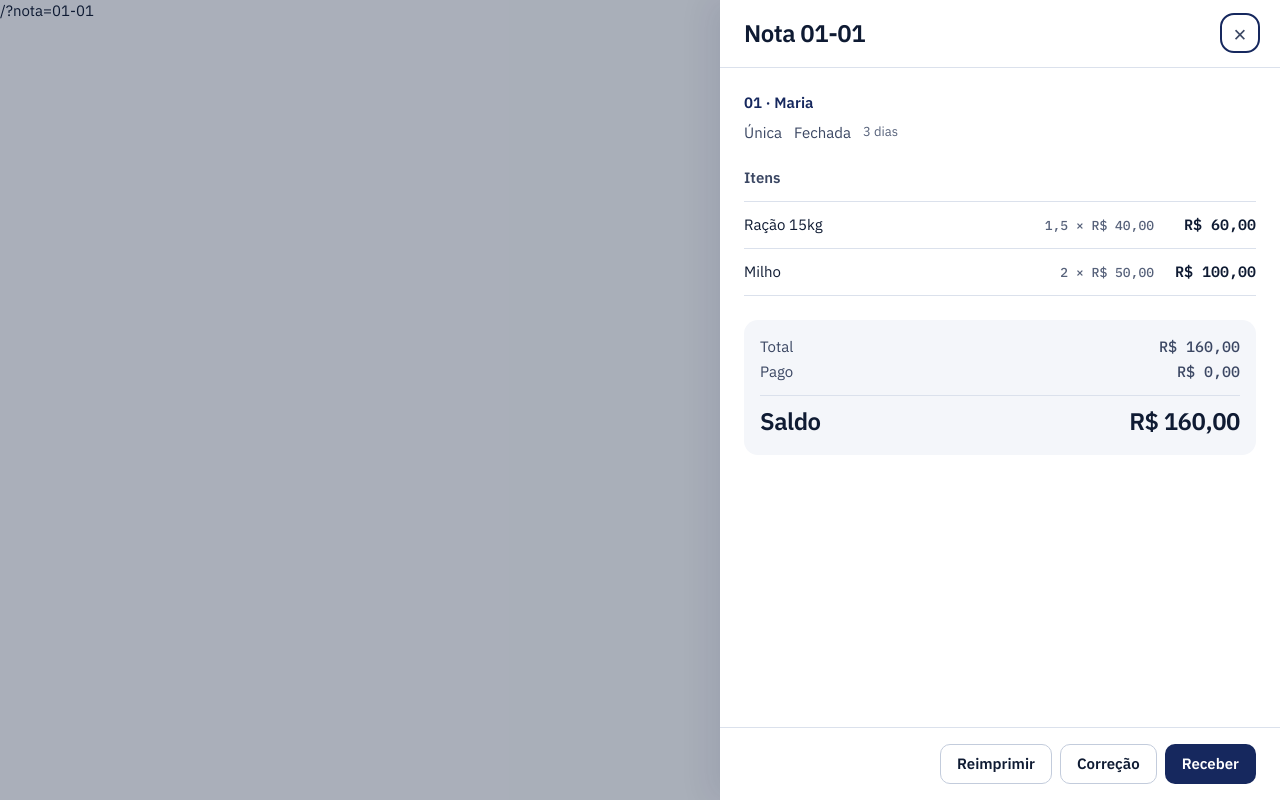
Test: Receber › 409 recarrega a nota e fecha o formulário com o aviso na gaveta
The width and height of the screenshot is (1280, 800).
Click the button "Receber" at (1210, 764), box [1165,744,1256,784]
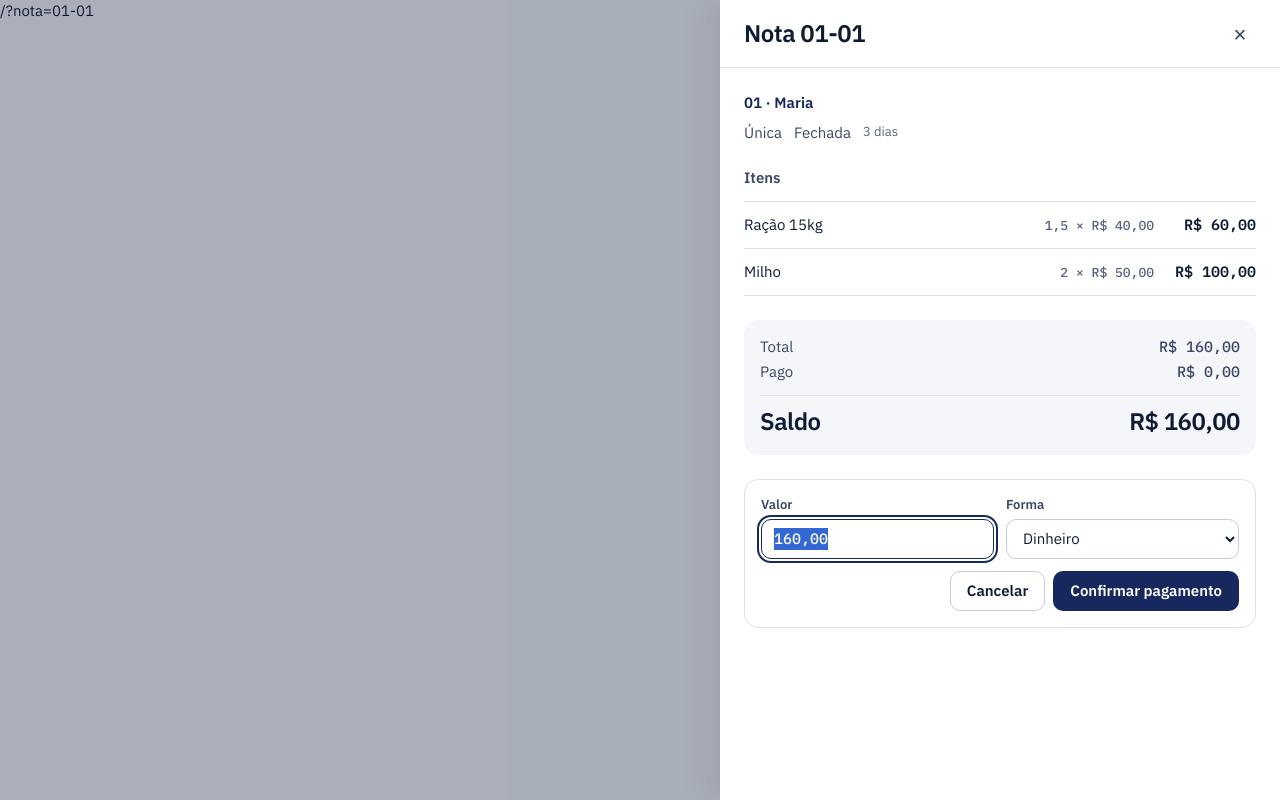
Click the button "Confirmar pagamento" at (1146, 591), box [1053,571,1239,611]
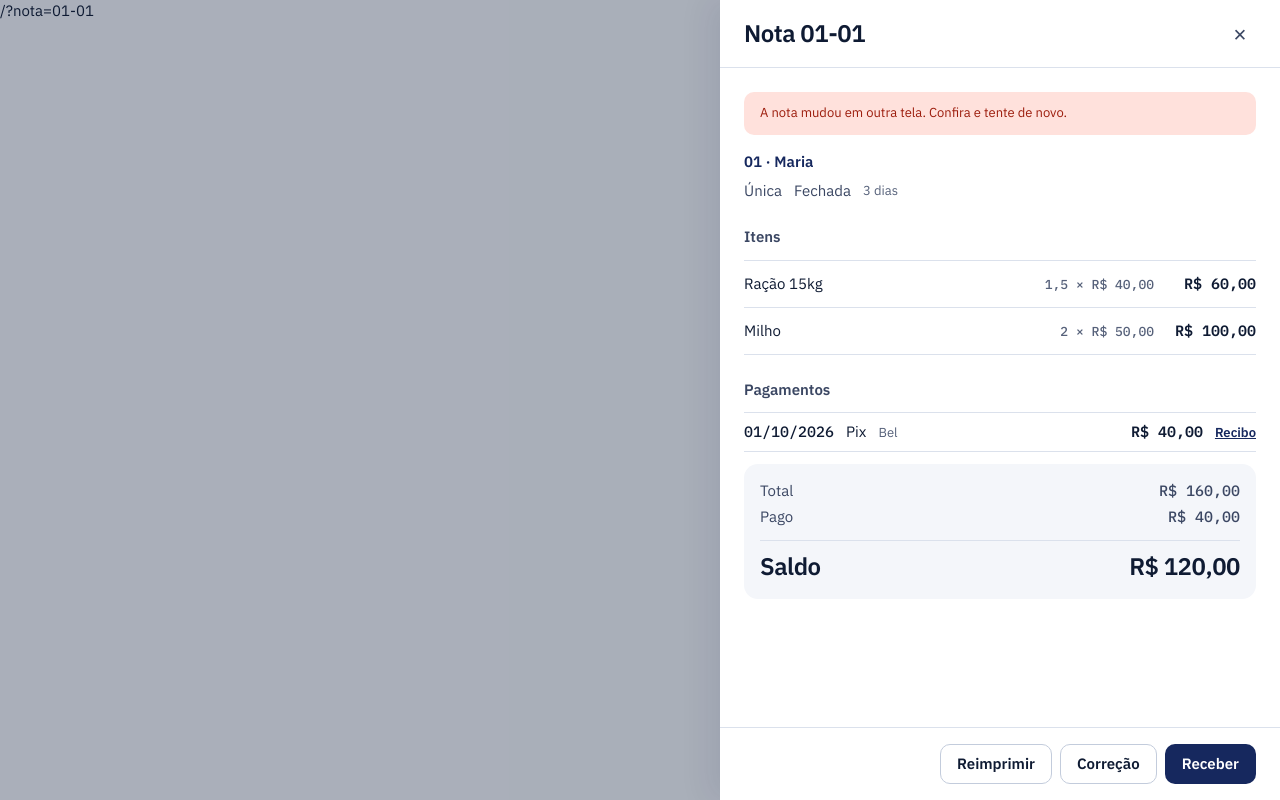
Result: the message reads "A nota mudou em outra tela. Confira e tente de novo." at [760,104,1067,121]
Result: the text "Saldo" shows "R$ 120,00" at [760,540,1240,584]
Result: the button "Receber" is shown at [1165,744,1256,784]
